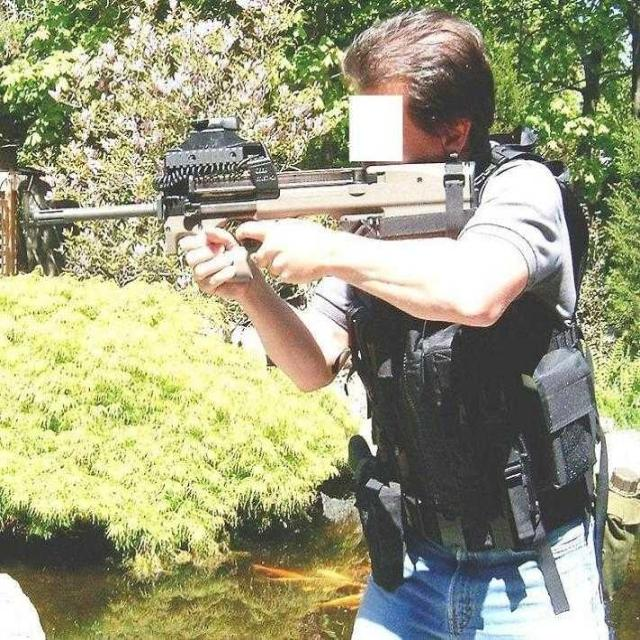heavyweapon: (30, 91, 495, 326)
